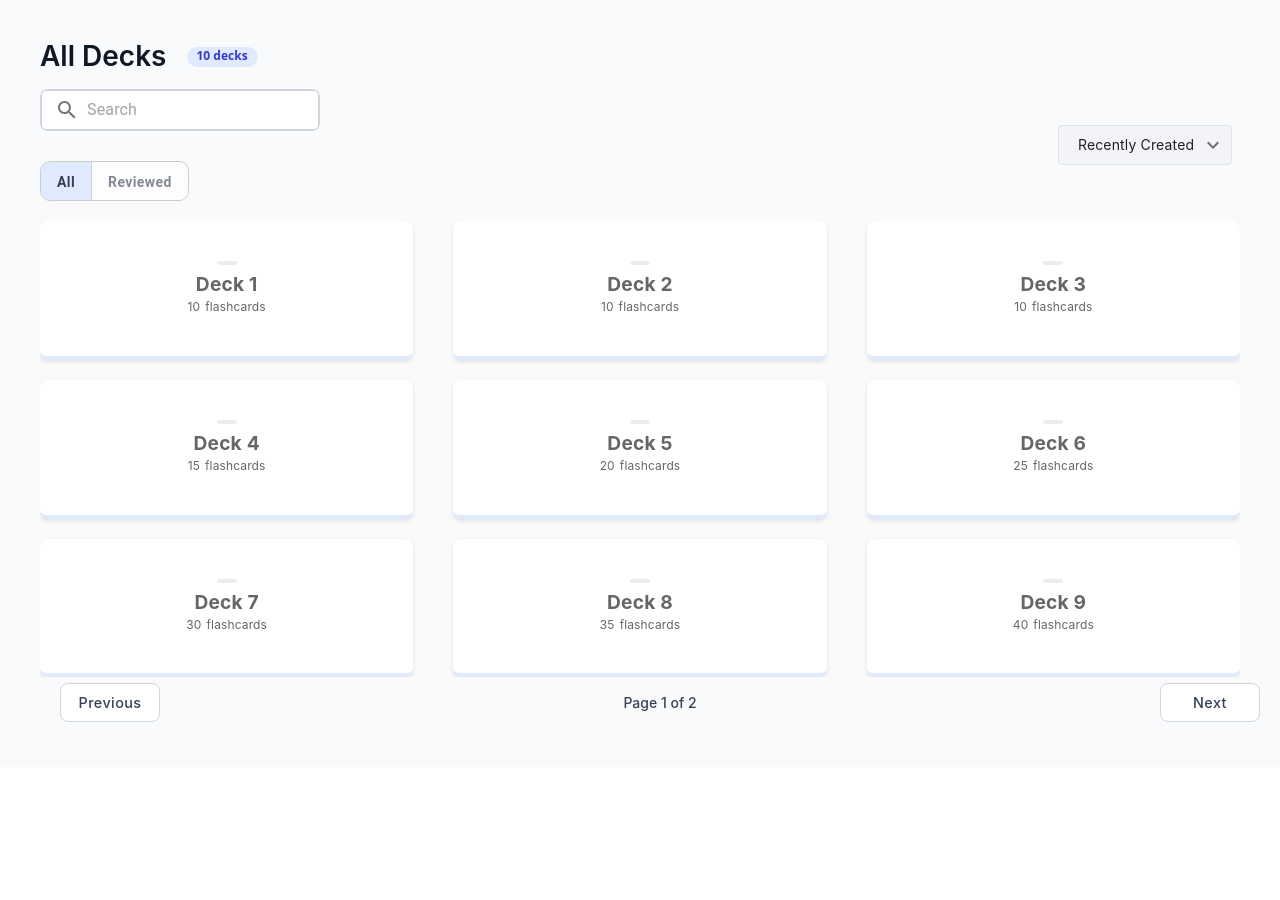
Test: Decks Component › displays filtered decks based on search query
Type "Deck 1" into the field with placeholder "Search" at (196, 110), box [87, 90, 305, 130]
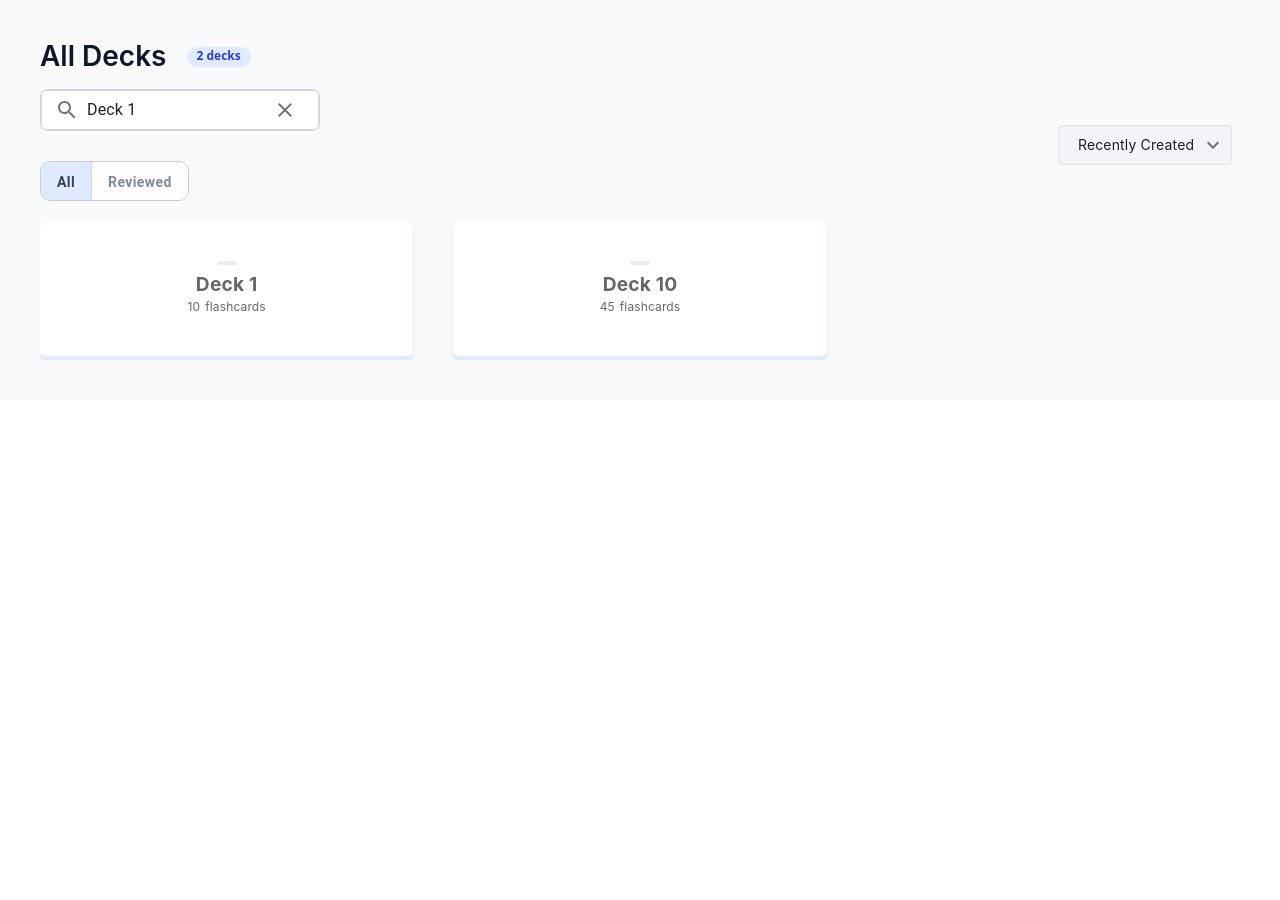
Expected: the text "Deck 1" is shown, [196, 270, 258, 298]
Expected: the text "Deck 2" is gone
